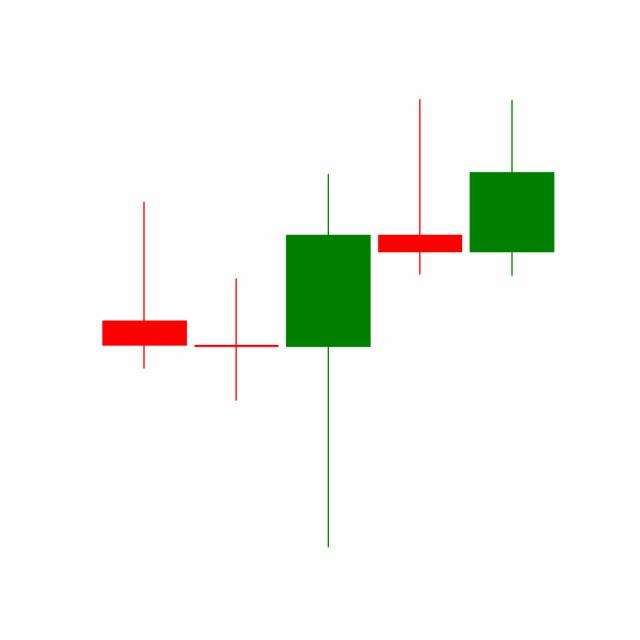Gravestone Doji: (373, 97, 467, 277)
